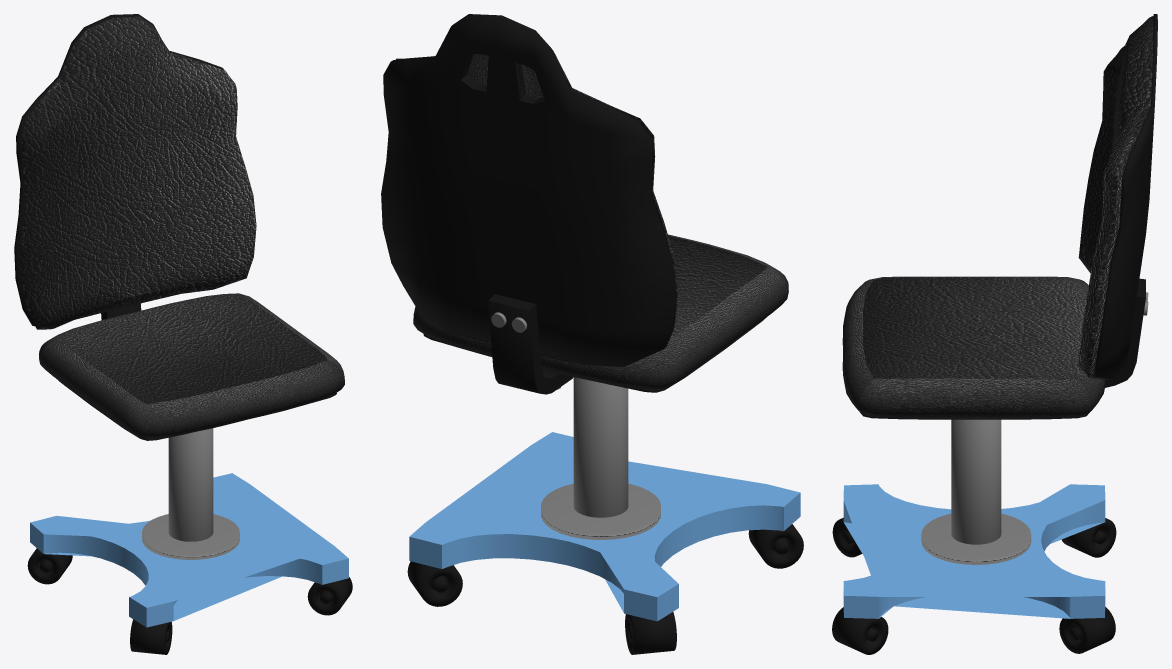
The model's file is chair_tier16.fbx.
3 renders of one model, left to right at view 1: azimuth 30°, elevation 25°; view 2: azimuth 150°, elevation 25°; view 3: azimuth 270°, elevation 25°, orthographic. The views are drawn at different scales.
Parts seen in each view (by area): view 1: Plane, Cube, Cube.004, Cylinder.001, Cylinder.002, Cylinder.006, Cylinder.003, Cylinder.004; view 2: Plane, Cube.004, Cube, Cylinder.001, Cube.005, Cylinder.002, Cylinder.004, Cylinder.005, Cylinder.006; view 3: Cube, Cube.004, Plane, Cylinder.001, Cylinder.002, Cylinder.003, Cylinder.005, Cylinder.004, Cube.005, Cylinder.006, Cube.003.
Boxes of the visible parts, x1,y1,x2,y2 form: Plane: (14, 14, 256, 329); Cube: (39, 293, 344, 438); Cube.004: (30, 473, 348, 627); Cylinder.001: (168, 428, 213, 541); Cylinder.002: (142, 514, 239, 559); Cylinder.006: (130, 619, 172, 654); Cylinder.003: (307, 577, 352, 615); Cylinder.004: (27, 548, 72, 584); Plane: (381, 14, 678, 366); Cube.004: (409, 432, 800, 621); Cube: (413, 234, 788, 389); Cylinder.001: (573, 377, 628, 517); Cube.005: (488, 294, 573, 394); Cylinder.002: (541, 483, 660, 539); Cylinder.004: (625, 612, 676, 654); Cylinder.005: (407, 561, 462, 606); Cylinder.006: (748, 524, 803, 568); Cube: (842, 276, 1106, 417); Cube.004: (843, 484, 1105, 618); Plane: (1078, 14, 1157, 379); Cylinder.001: (951, 419, 1001, 544); Cylinder.002: (921, 513, 1031, 564); Cylinder.003: (832, 607, 888, 654); Cylinder.005: (1059, 607, 1115, 653); Cylinder.004: (1061, 518, 1116, 557); Cube.005: (1105, 278, 1145, 387); Cylinder.006: (832, 517, 862, 557); Cube.003: (860, 412, 1089, 419).
Size of the model in its own units: 67.52 by 140 by 71.37.
